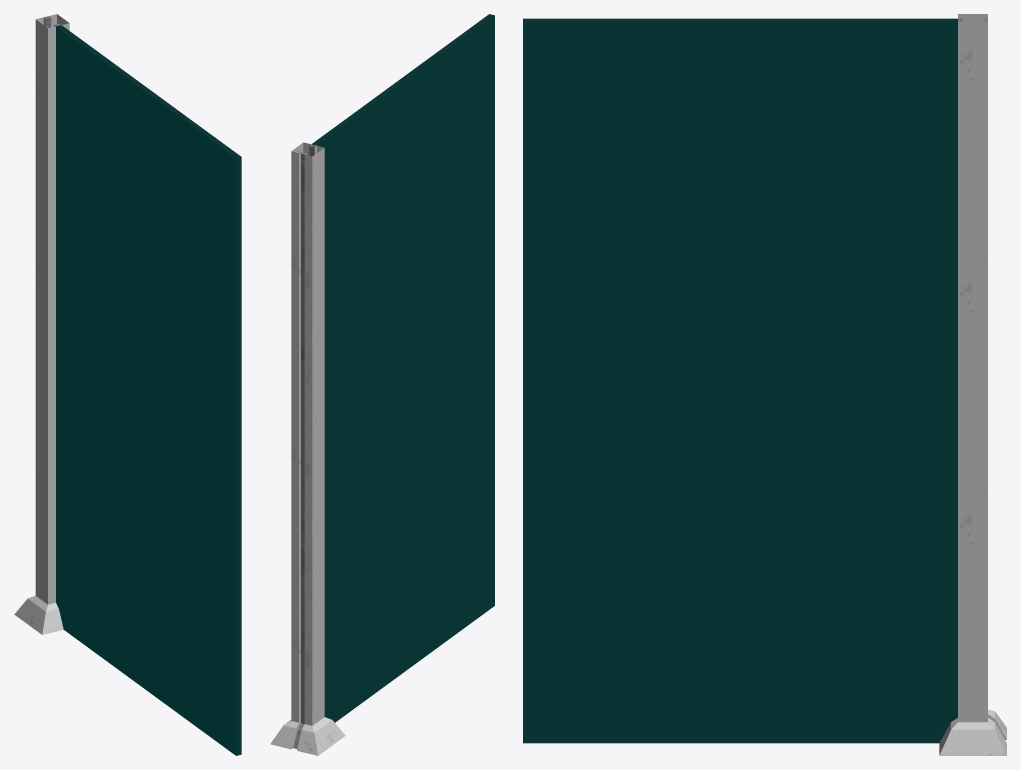
The model's file is GlassLabWall.fbx.
3 renders of one model, left to right at view 1: azimuth 30°, elevation 25°; view 2: azimuth 150°, elevation 25°; view 3: azimuth 270°, elevation 25°, orthographic. The views are drawn at different scales.
Parts seen in each view (by area): view 1: Glass, GlassPole; view 2: Glass, GlassPole; view 3: Glass, GlassPole.
Part boxes in pixels (x1,y1,x2,y2): Glass: [56, 25, 241, 755]; GlassPole: [14, 14, 69, 634]; Glass: [312, 14, 494, 722]; GlassPole: [270, 142, 345, 755]; Glass: [523, 18, 957, 743]; GlassPole: [939, 14, 1006, 755].
Size of the model in its own units: 0.7558 by 8.89 by 5.4.
